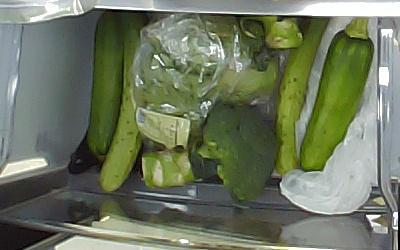broccoli: (142, 104, 281, 203)
broccoli_vinyl: (134, 15, 228, 113)
cucumber: (101, 14, 147, 195), (276, 18, 328, 174)
zucchini: (301, 17, 373, 172), (67, 13, 123, 175)
